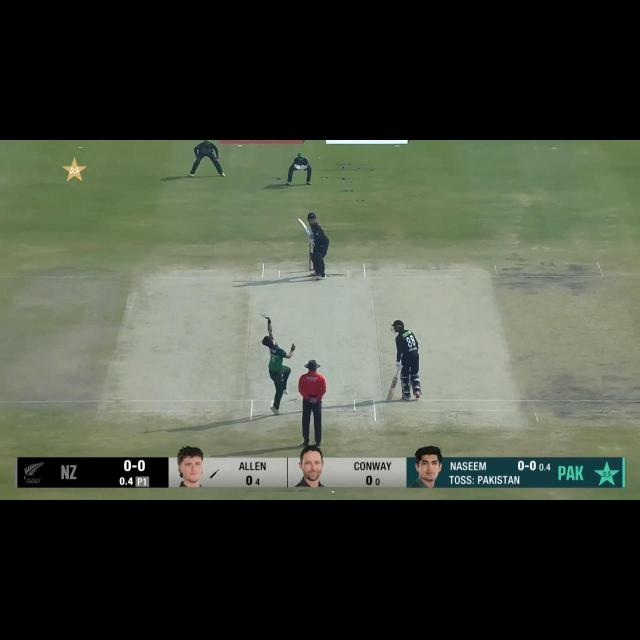bat: (296, 218, 312, 237), (386, 377, 396, 402)
toe: (384, 395, 395, 404), (295, 217, 306, 225)
